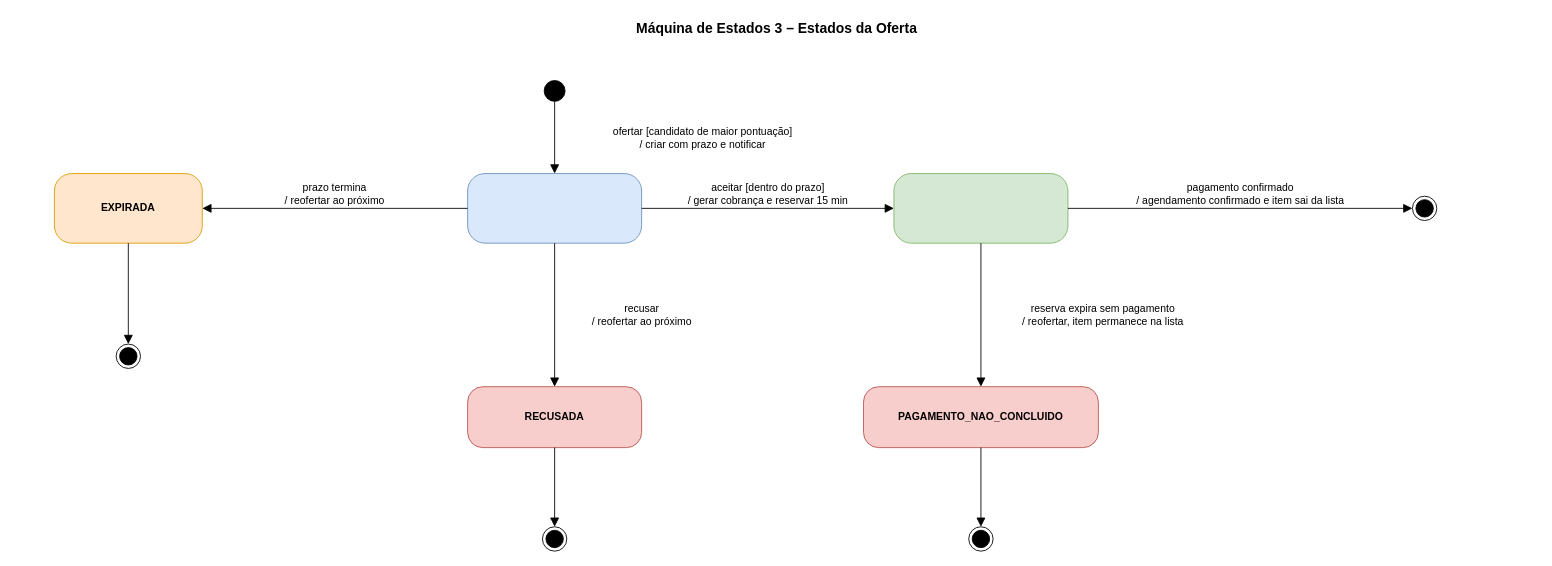
Some shapes in this 1552 by 566 pixel diagram are drawn without their labels. The shapes that lost their labels are listed below. From the top down, each one's box as (x1, y1, x2, y2) in pixels, then its label:
(467, 173, 642, 243): ABERTA
(893, 173, 1068, 243): ACEITA
